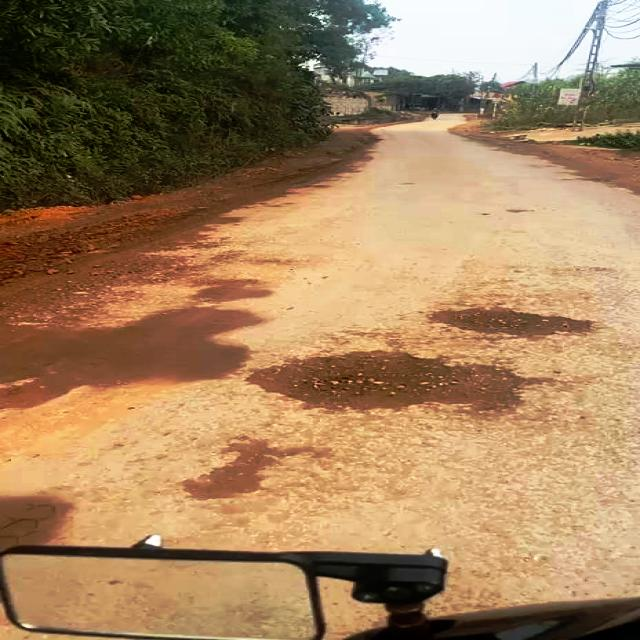pothole: (252, 346, 540, 413), (182, 440, 315, 502), (432, 305, 596, 342)
